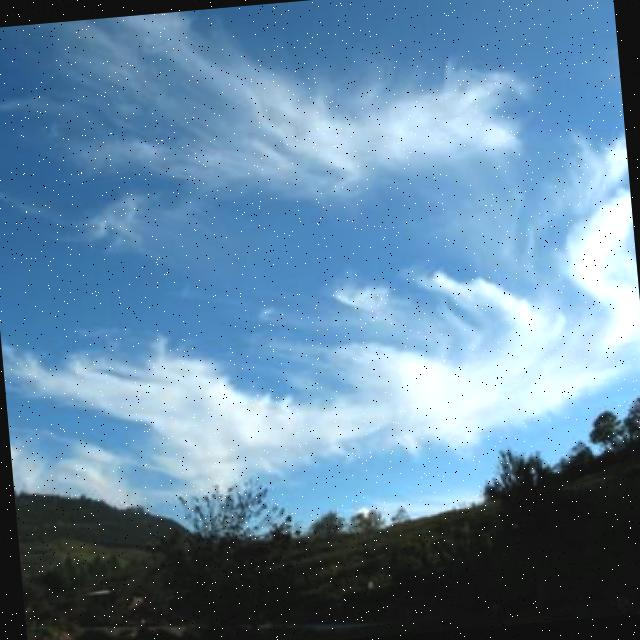Ci: (1, 1, 533, 276)
